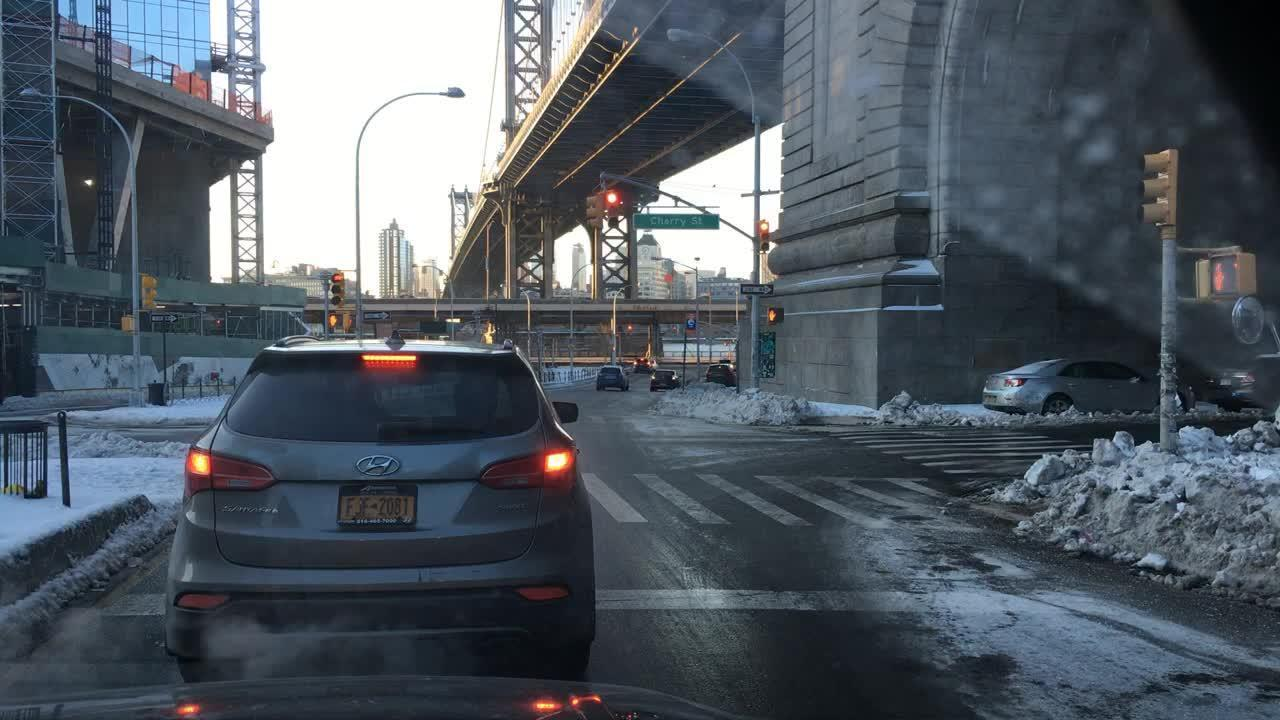Hyundai: (353, 449, 401, 481)
